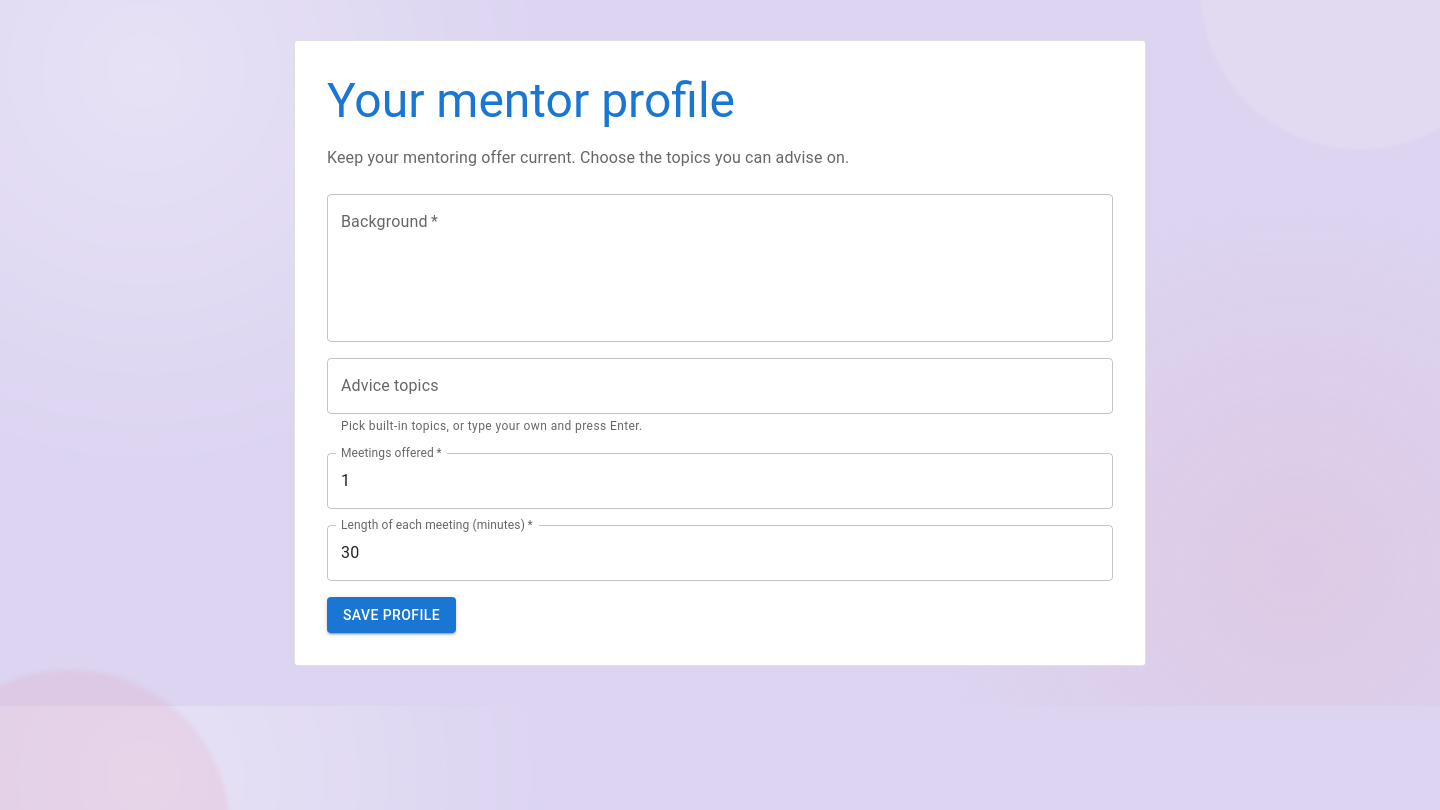
Test case: MentorProfile › lets a mentor add a custom free-text topic alongside a built-in one
The width and height of the screenshot is (1440, 810).
Step 1. Type "New background text." into the text box labelled "Background" → [720, 268], box [341, 210, 1099, 325]
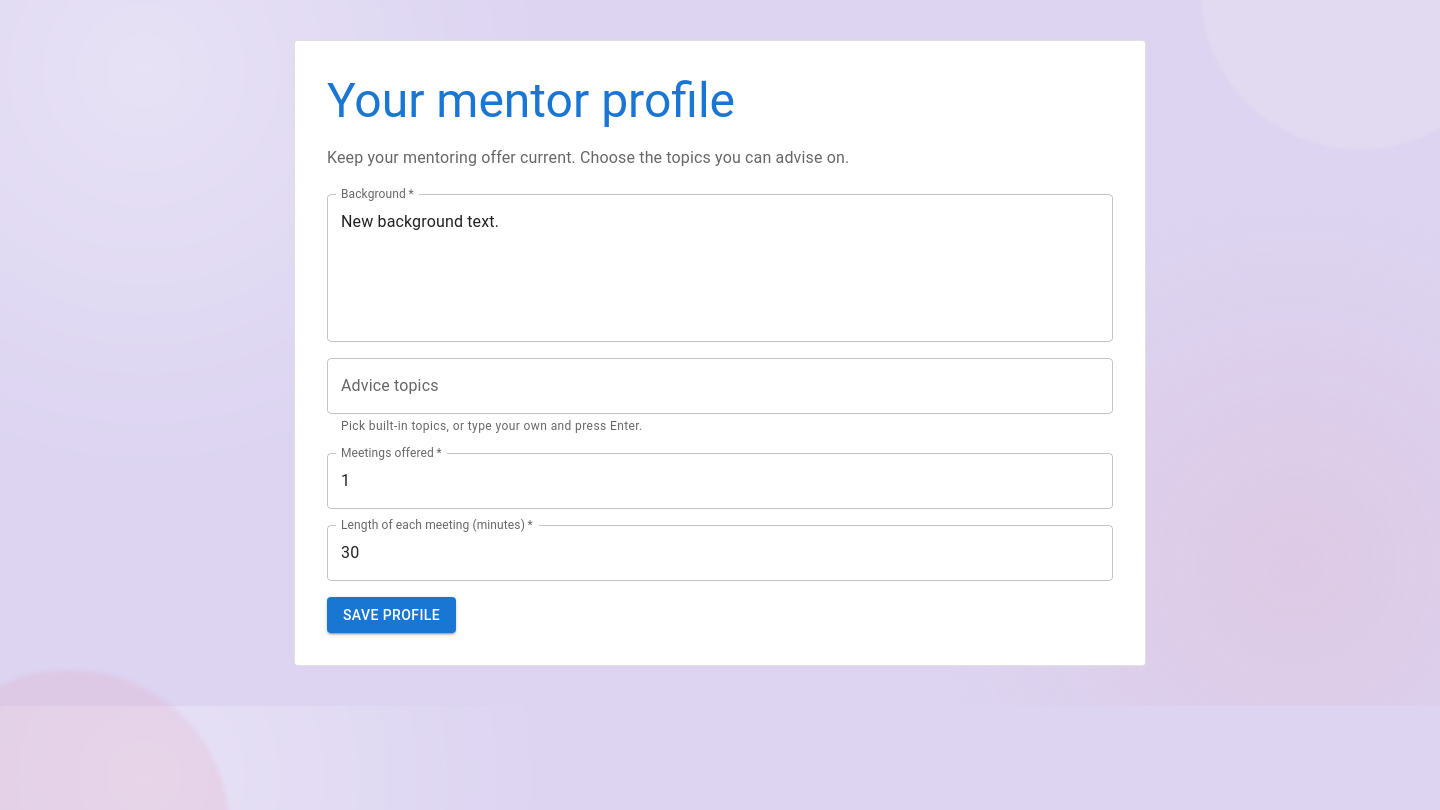
Step 2. Type "CV / Resume Review" into the dropdown labelled "Advice topics" → [720, 386], box [336, 367, 1104, 405]
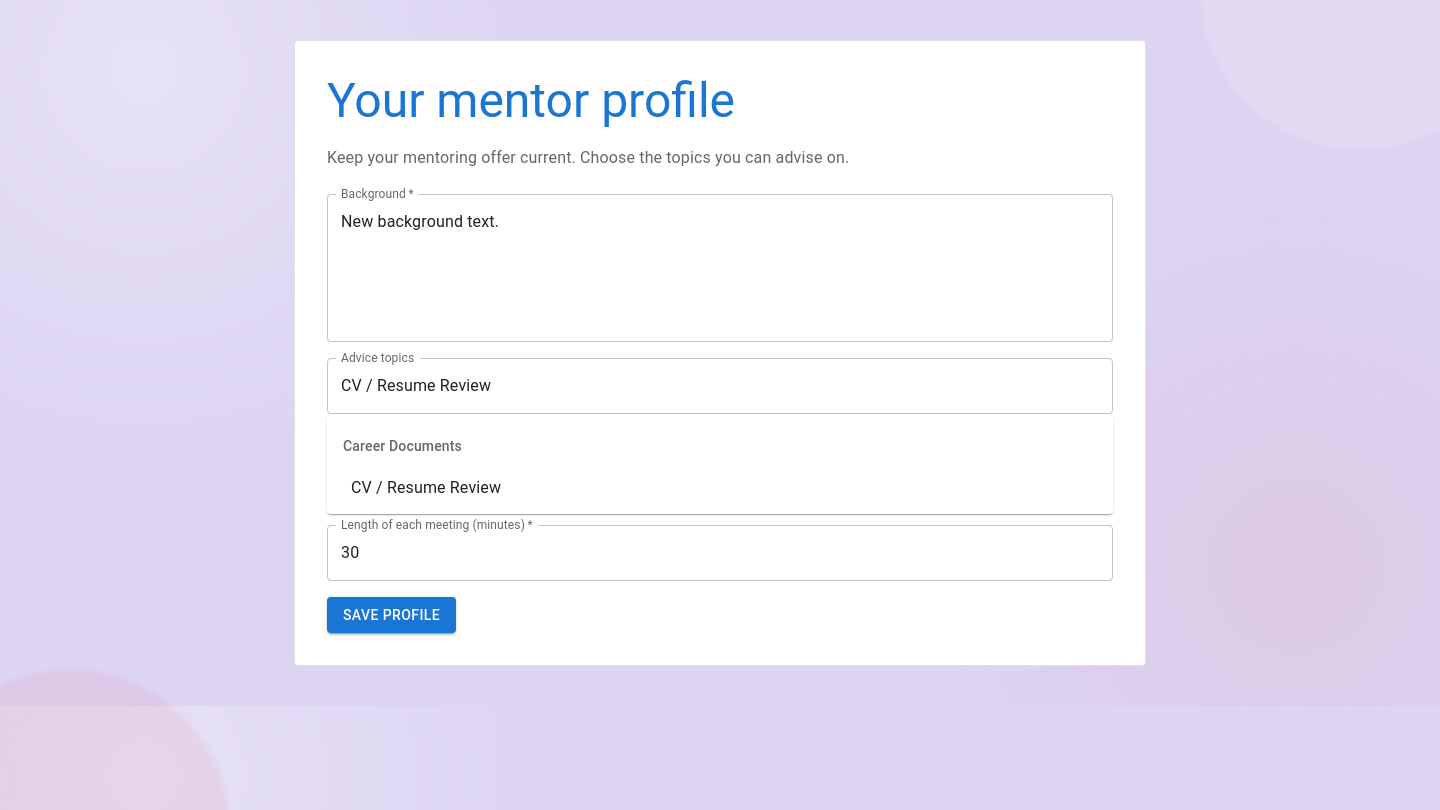
Step 3. Click the option "CV / Resume Review" → [426, 488], box [351, 478, 501, 497]
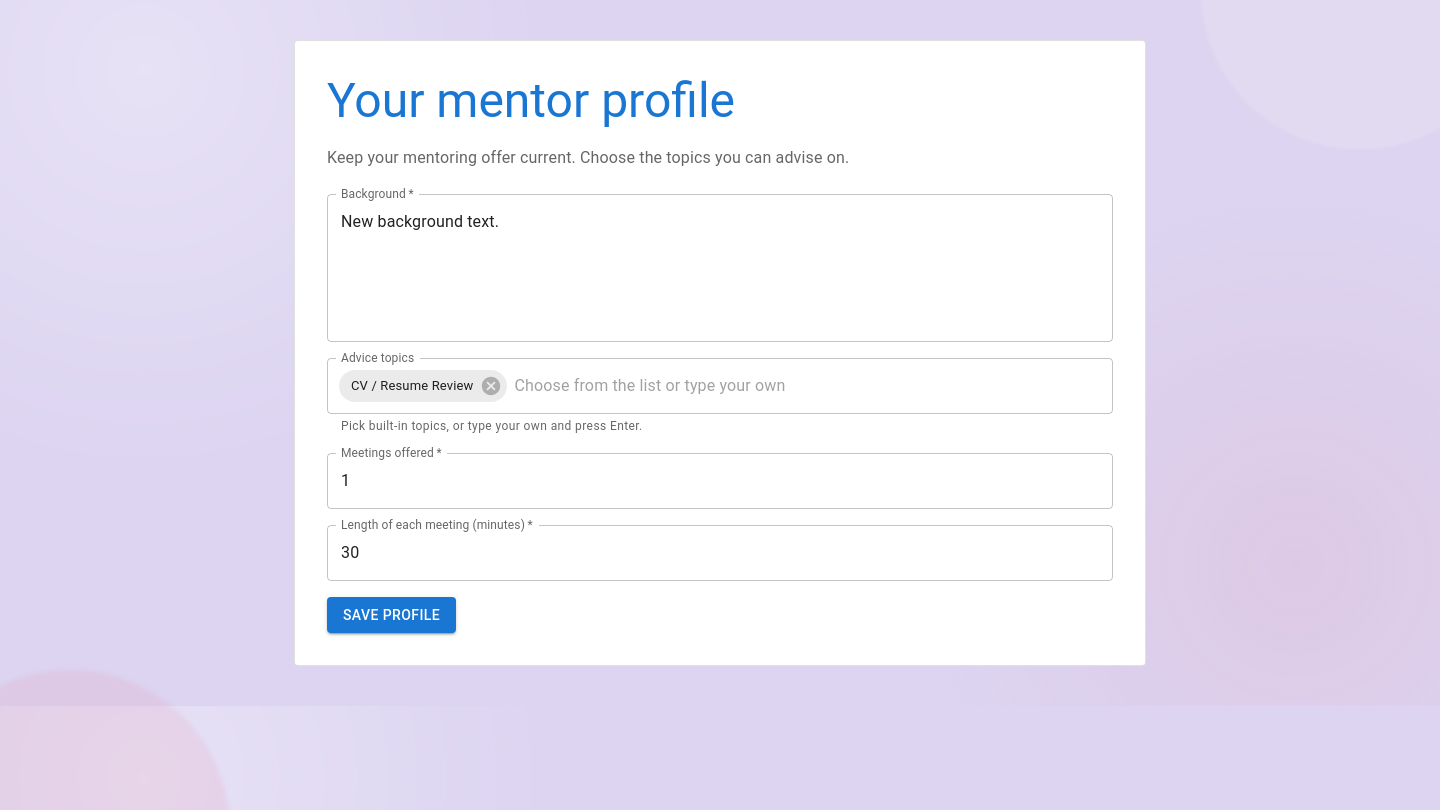
Step 4. Type "Kubernetes deep dives" into the dropdown labelled "Advice topics" → [792, 386], box [510, 367, 1074, 405]
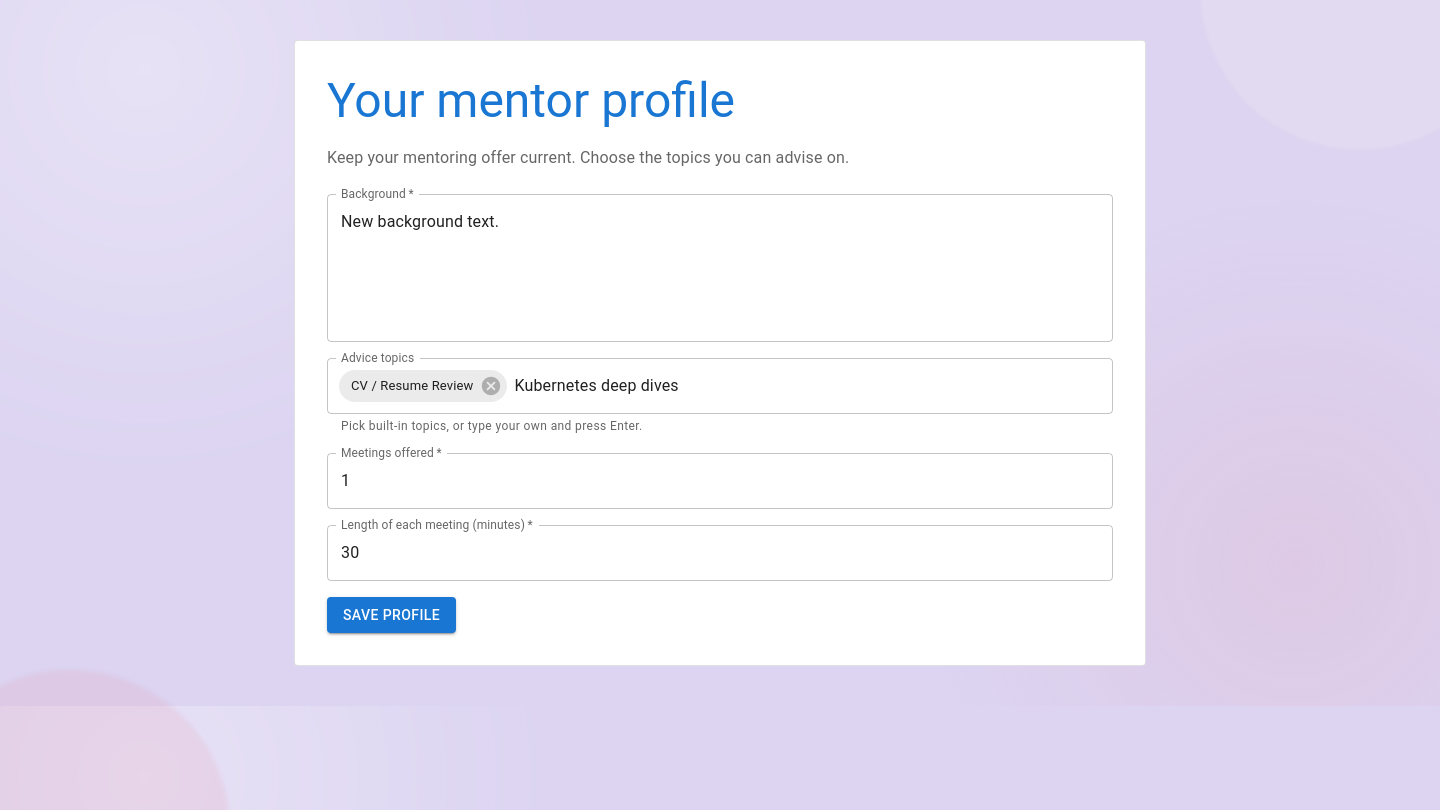
Step 5. Press Enter in the dropdown labelled "Advice topics", box [510, 367, 1074, 405]
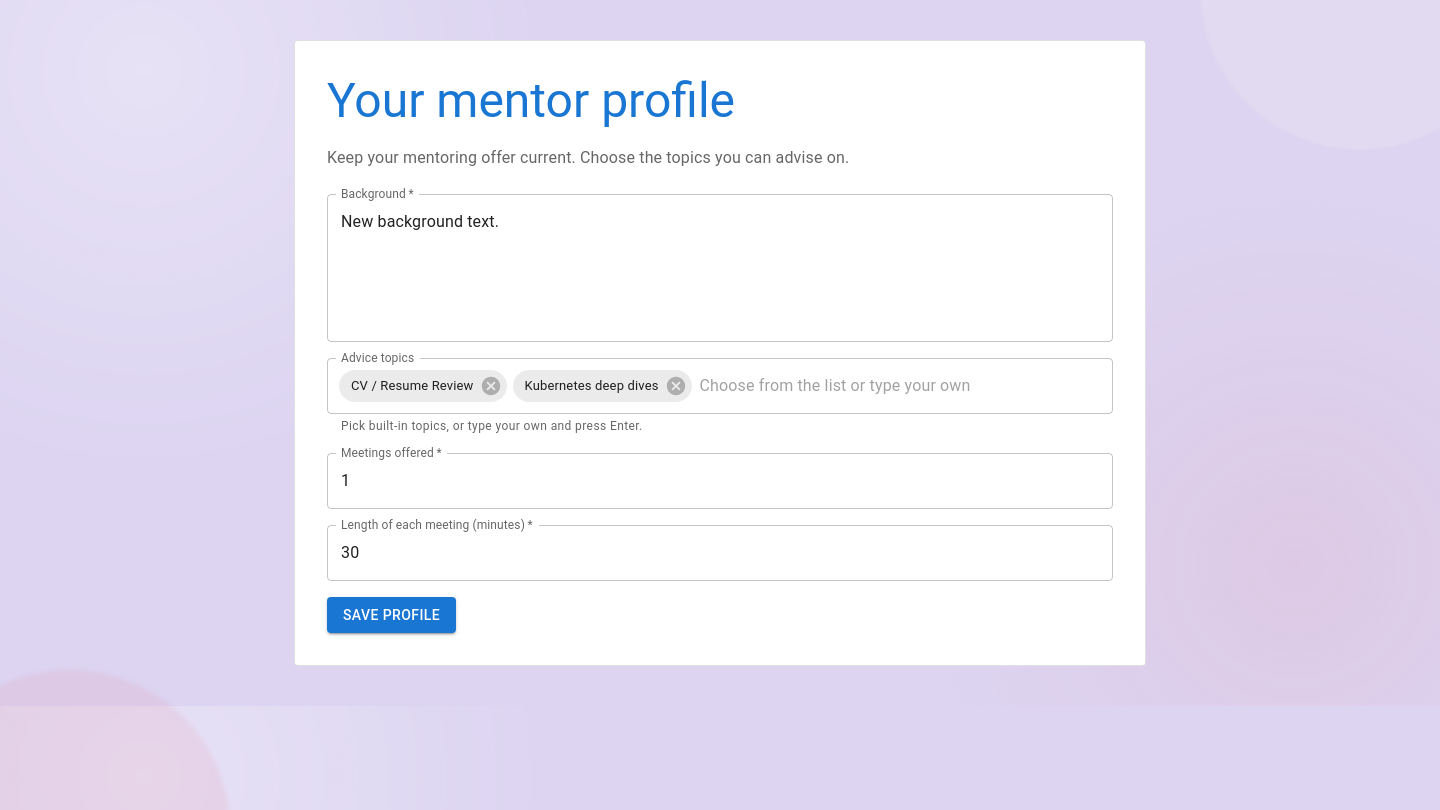
Step 6. Click the button "Save profile" → [392, 615], box [327, 597, 456, 633]
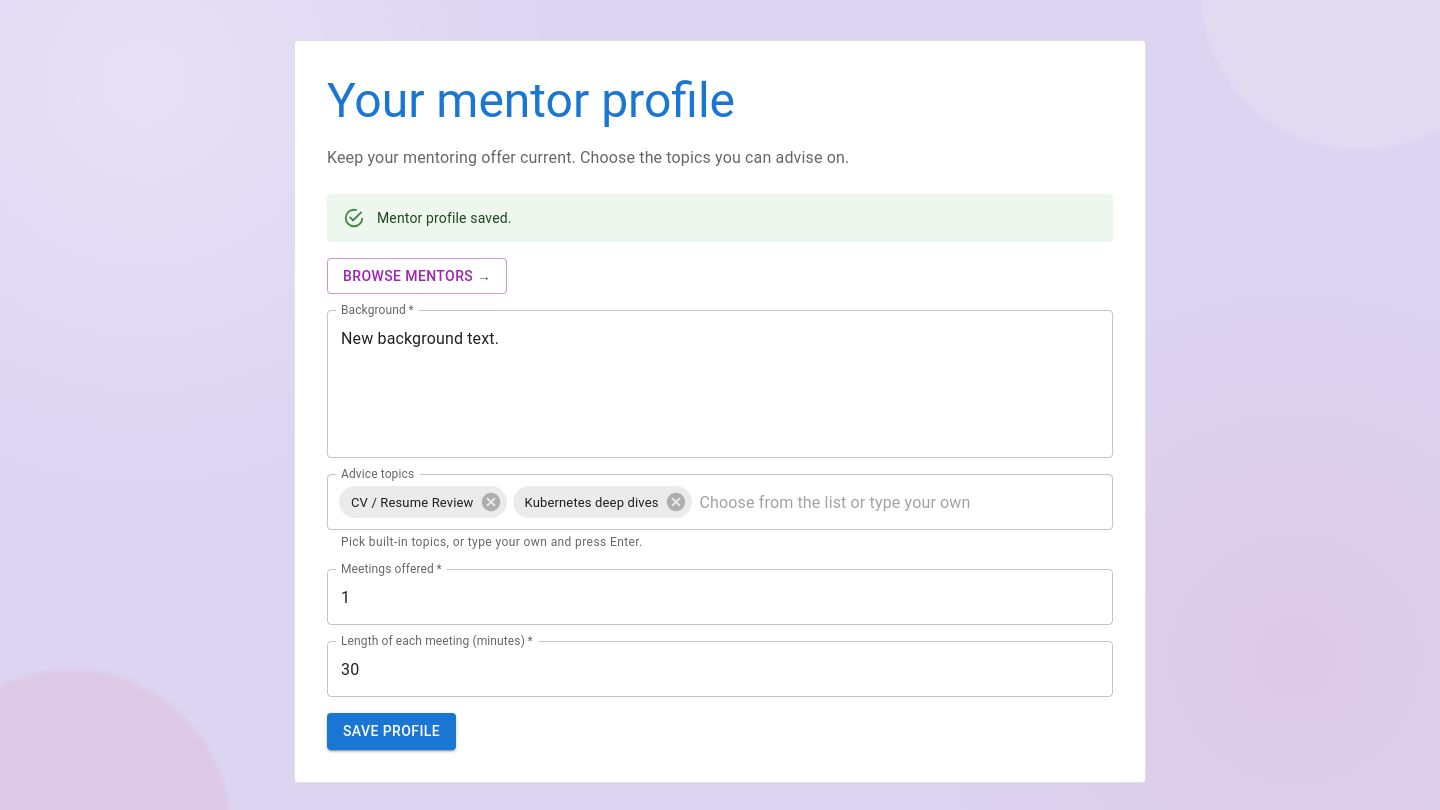
Now the text "Mentor profile saved." is shown, box [377, 210, 512, 226]
